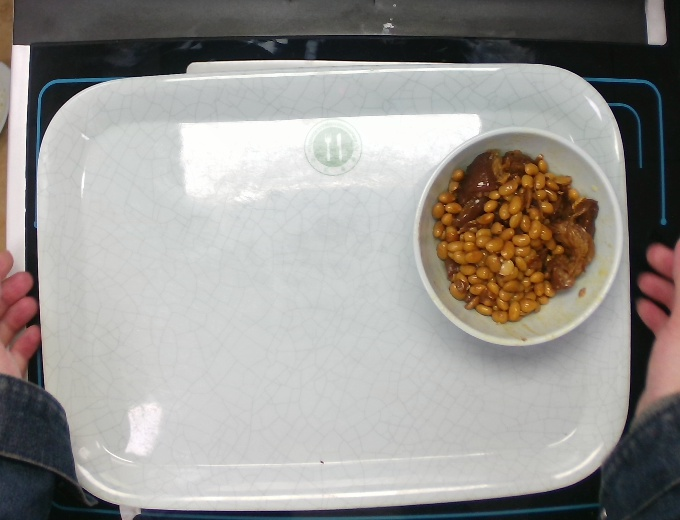JYsf-Fan_Wan: (400, 117, 627, 351)
